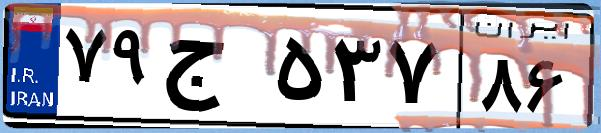3: (330, 28, 385, 110)
5: (270, 28, 330, 110)
6: (525, 38, 570, 115)
7: (385, 28, 445, 110), (57, 26, 110, 100)
8: (475, 38, 525, 113)
9: (110, 28, 158, 98)
ج: (158, 20, 270, 120)
